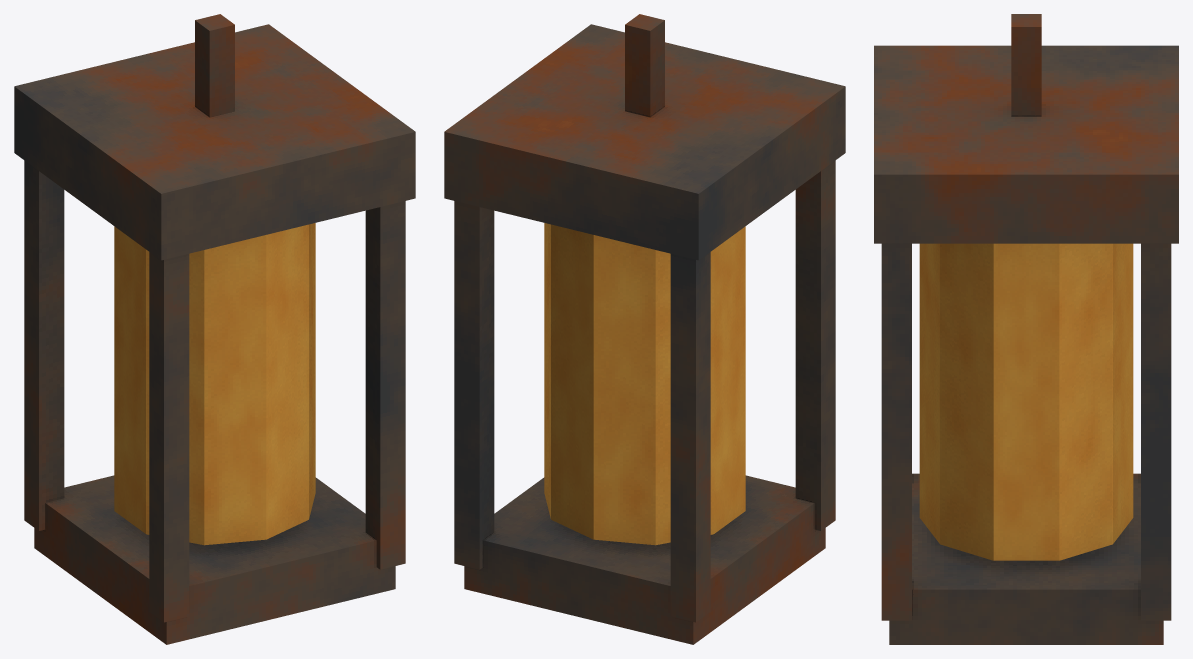
The model's file is mine_lantern.glb.
The picture shows the model from 3 angles, left to right: view 1: azimuth 30°, elevation 25°; view 2: azimuth 150°, elevation 25°; view 3: azimuth 270°, elevation 25°; orthographic projection. The views are drawn at different scales.
Parts seen in each view (by area): view 1: mine_lantern; view 2: mine_lantern; view 3: mine_lantern.
Boxes of the visible parts, x1,y1,x2,y2 form: mine_lantern: [14, 14, 415, 644]; mine_lantern: [444, 14, 845, 644]; mine_lantern: [874, 14, 1178, 644].
Bounding box in the file's own units: 0.2 × 0.41 × 0.2.
2 materials, 2 textured.
